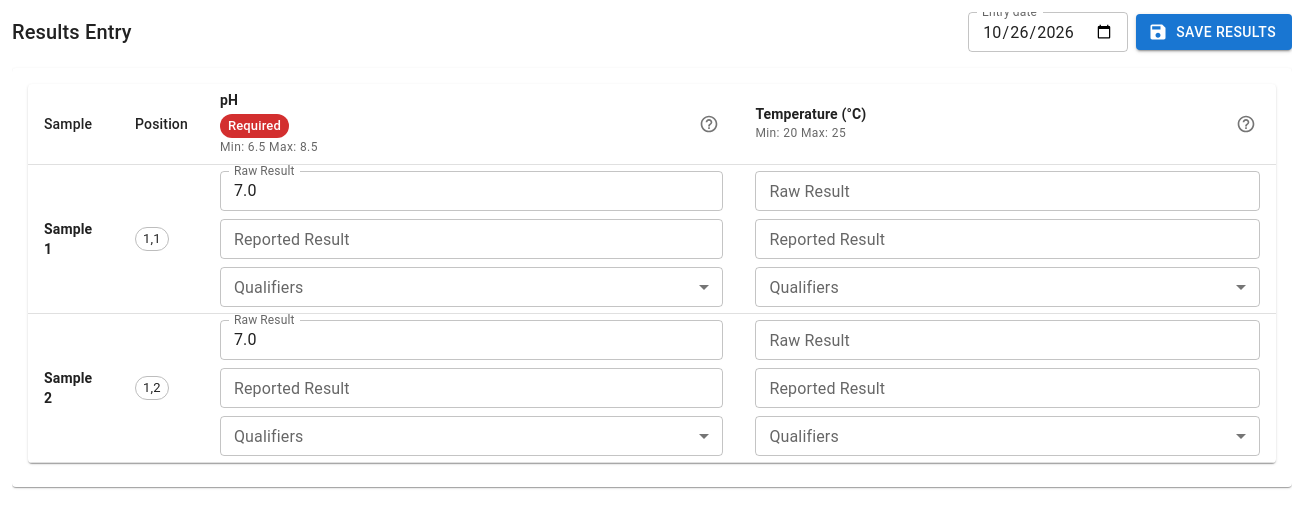
Scenario: ResultsEntryTable › loads qualifiers and displays them in dropdown
The image size is (1304, 506).
Click the 1st dropdown named "Qualifiers" at x=472, y=287, box top-left (220, 267), bottom-right (723, 307)
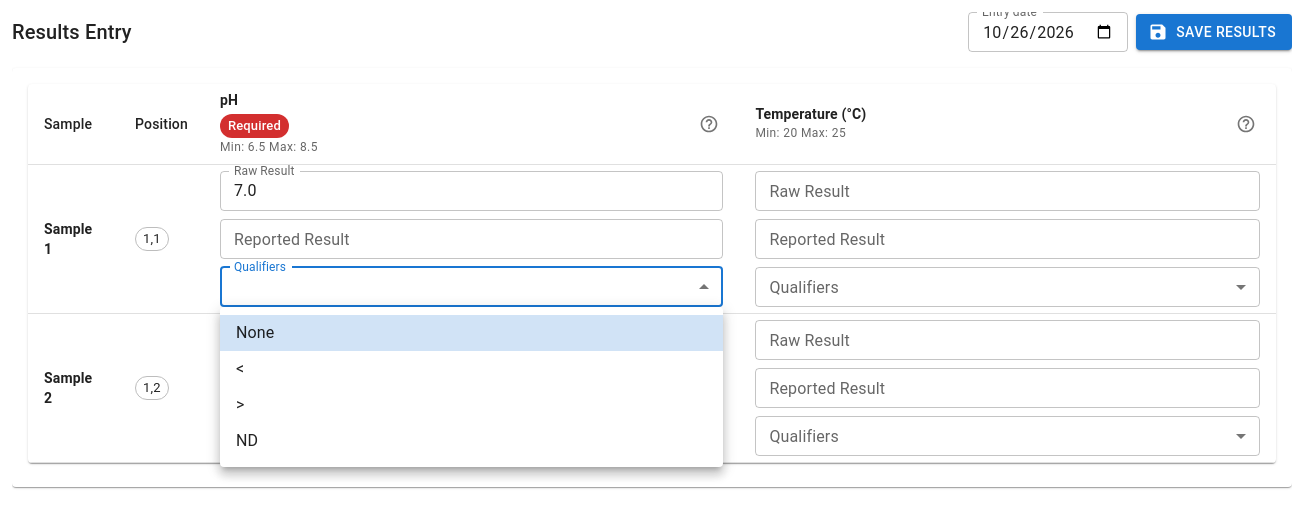
Result: the option "ND" is shown at top-left (236, 431), bottom-right (258, 450)
Result: the option "<" is shown at top-left (236, 359), bottom-right (244, 378)
